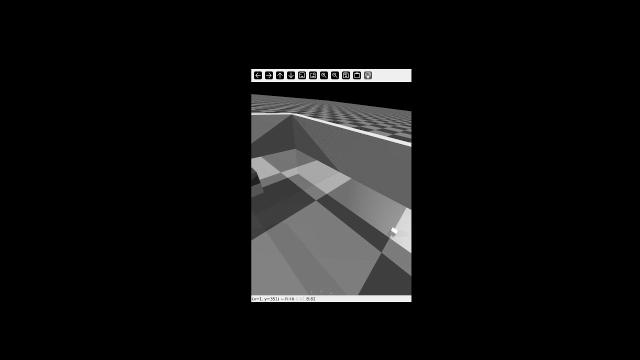cuadrado: (248, 162, 266, 188), (386, 225, 399, 238)
